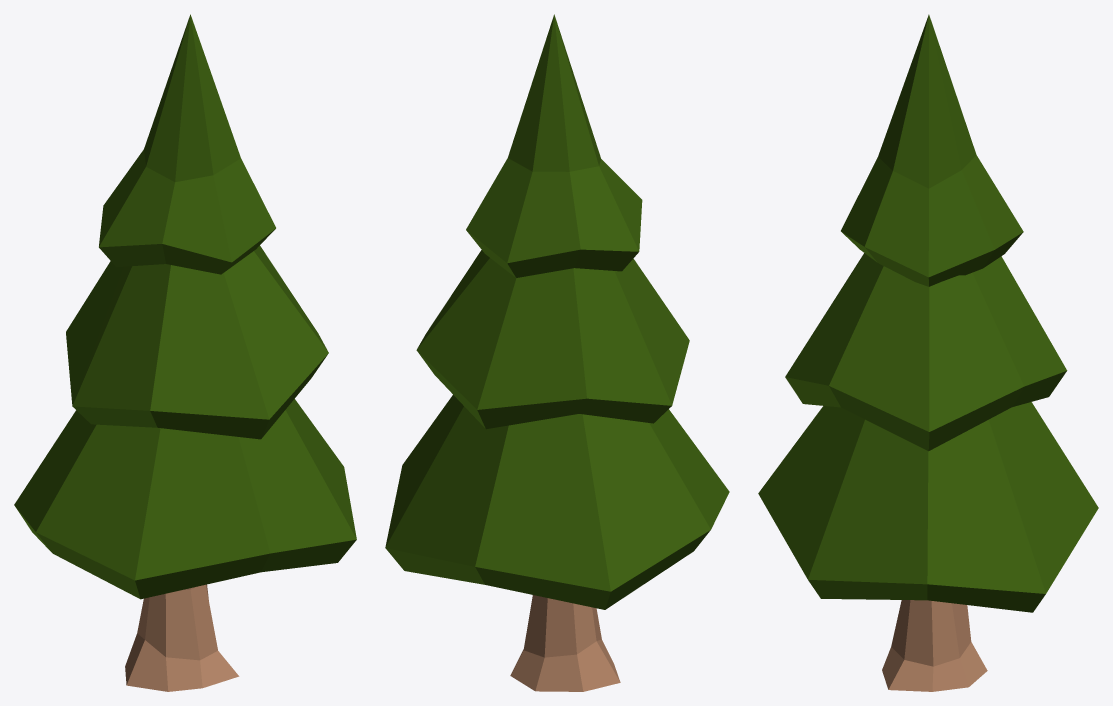
Rendered from tree_spruce_tiny_01.135_lev3.glb.
3 views of the same model, side by side, from view 1: azimuth 30°, elevation 25°; view 2: azimuth 150°, elevation 25°; view 3: azimuth 270°, elevation 25° (orthographic).
Visible parts, largest first — view 1: tree_spruce_tiny_01.135_lev3; view 2: tree_spruce_tiny_01.135_lev3; view 3: tree_spruce_tiny_01.135_lev3.
Part boxes in pixels (bbox=[...]): tree_spruce_tiny_01.135_lev3: bbox=[14, 14, 356, 691]; tree_spruce_tiny_01.135_lev3: bbox=[385, 14, 729, 691]; tree_spruce_tiny_01.135_lev3: bbox=[758, 14, 1098, 691].
Bounding box in the file's own units: 1.21 × 2.45 × 1.14.
